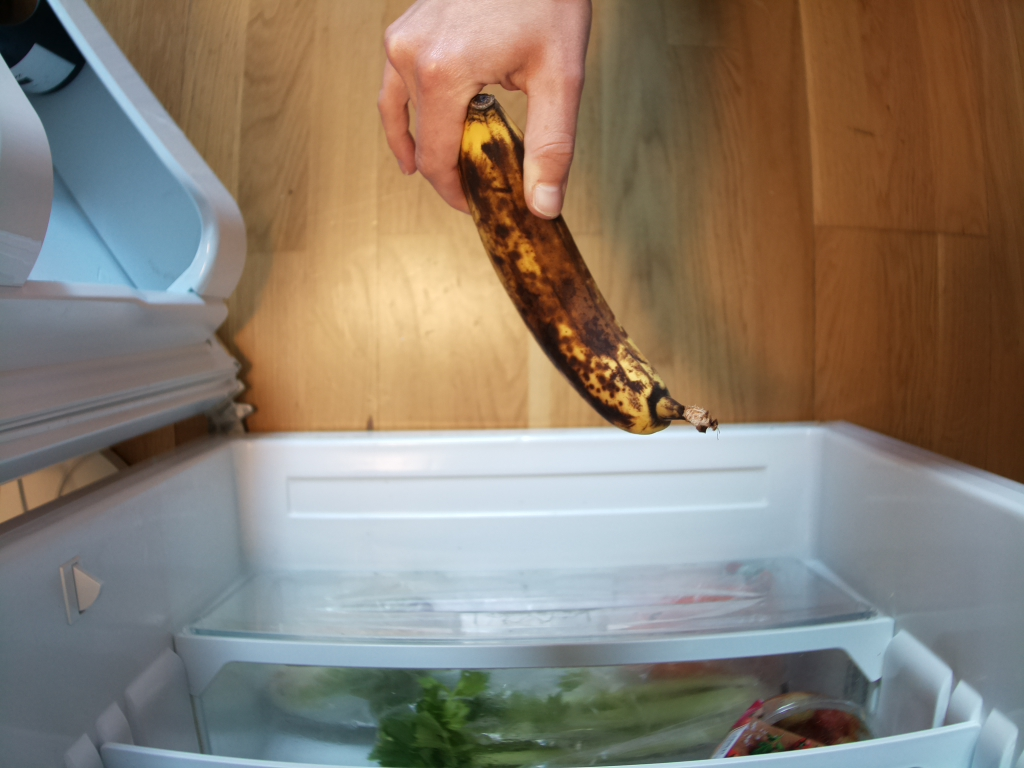banana-overripe: (449, 91, 729, 445)
